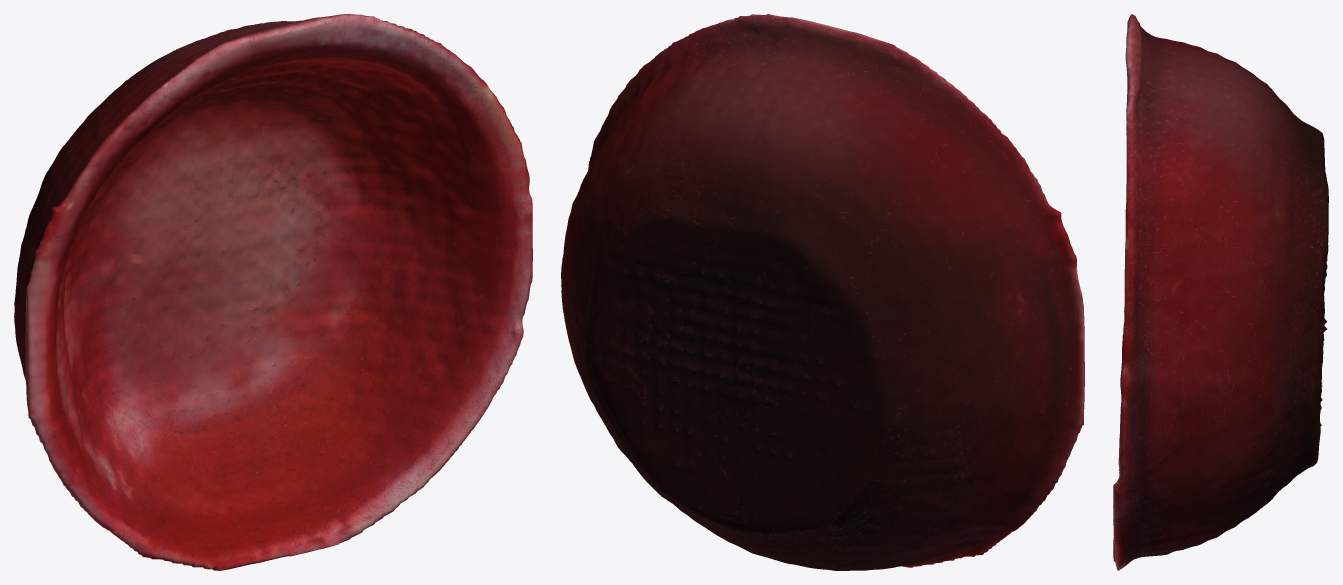
File: bowl.glb
The picture shows the model from 3 angles, left to right: view 1: azimuth 30°, elevation 25°; view 2: azimuth 150°, elevation 25°; view 3: azimuth 270°, elevation 25°; orthographic projection. The views are drawn at different scales.
Parts seen in each view (by area): view 1: Node; view 2: Node; view 3: Node.
Boxes of the visible parts, bbox=[...] form: Node: bbox=[14, 14, 532, 570]; Node: bbox=[561, 14, 1084, 570]; Node: bbox=[1113, 14, 1328, 570].
Bounding box in the file's own units: 0.1564 × 0.1567 × 0.0617.
Materials: 1 (1 with a texture image).
